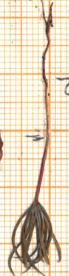flower: (8, 199, 66, 276)
root: (38, 1, 56, 134)
stem: (30, 135, 54, 198)
